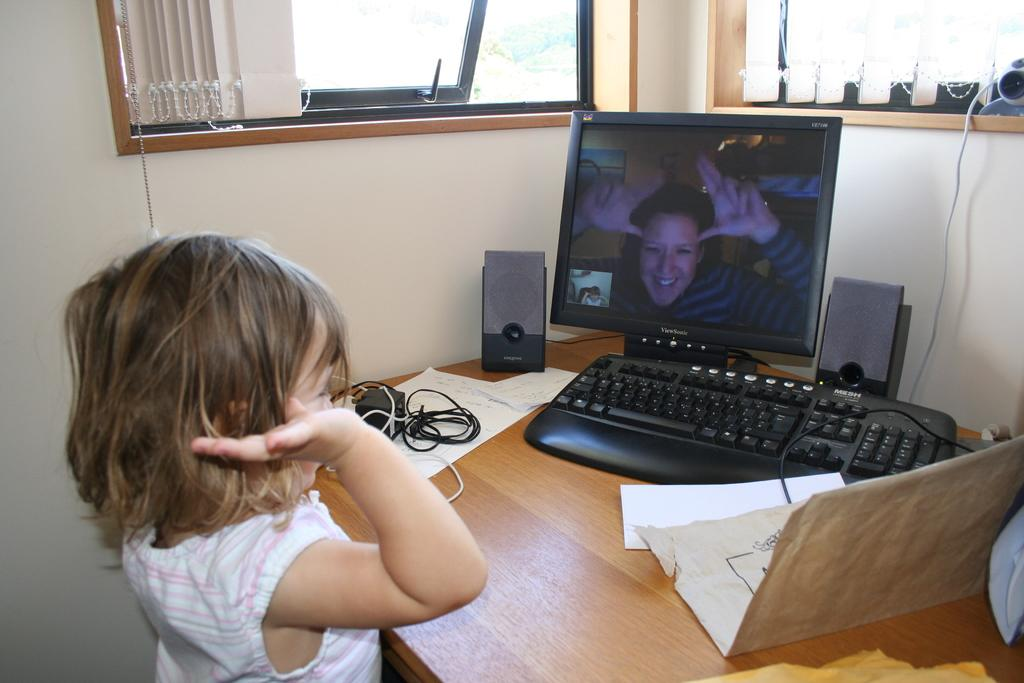Computer-keyboard: (521, 350, 956, 484)
Computer-monitor: (550, 113, 846, 375)
